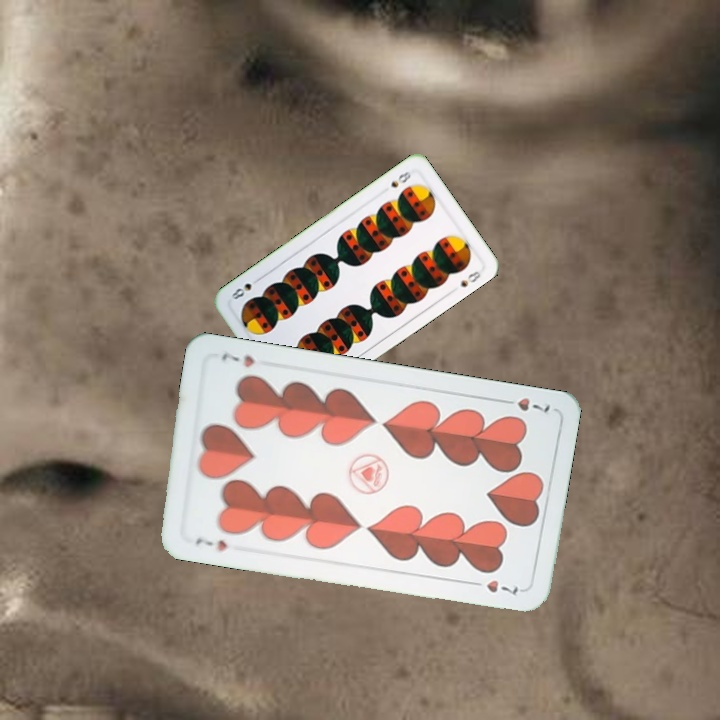H7: (496, 394, 553, 415), (191, 533, 230, 554)
S8: (387, 167, 413, 190)
